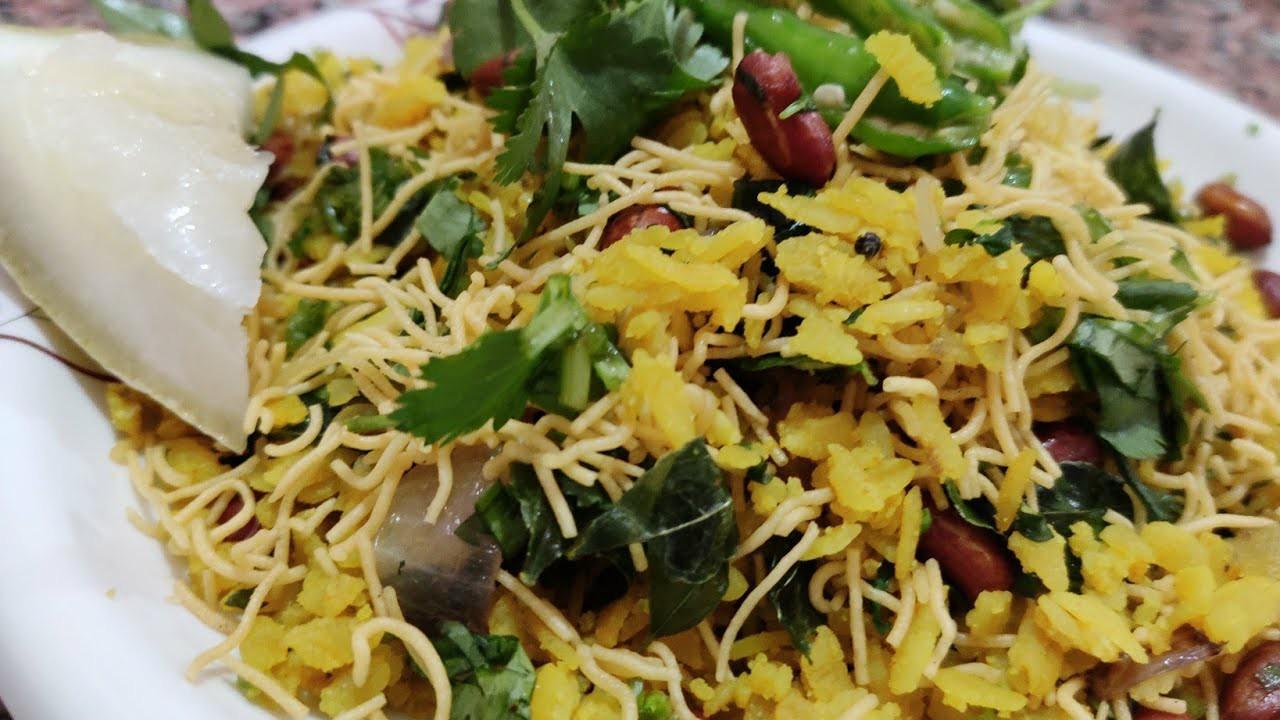Poha: (106, 0, 1280, 720)
